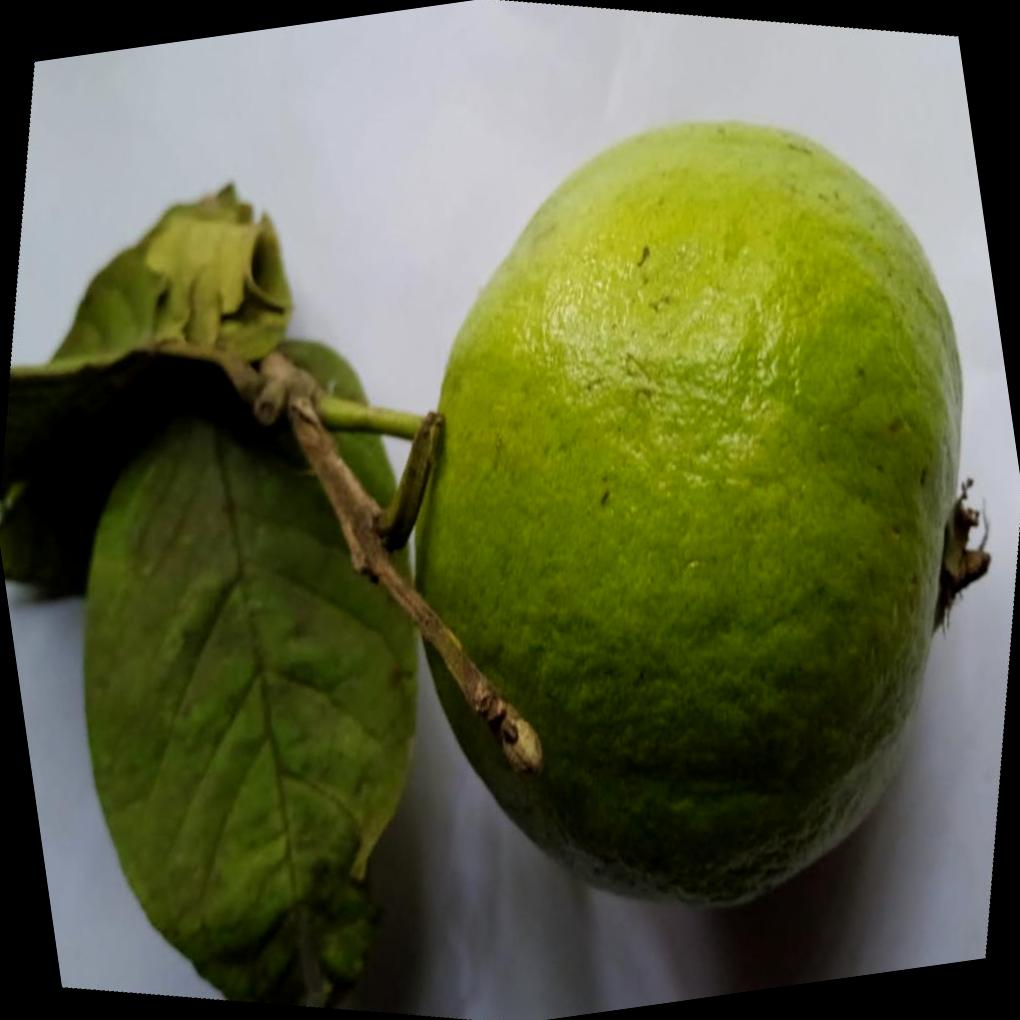FreshGuava: (384, 121, 983, 915)
